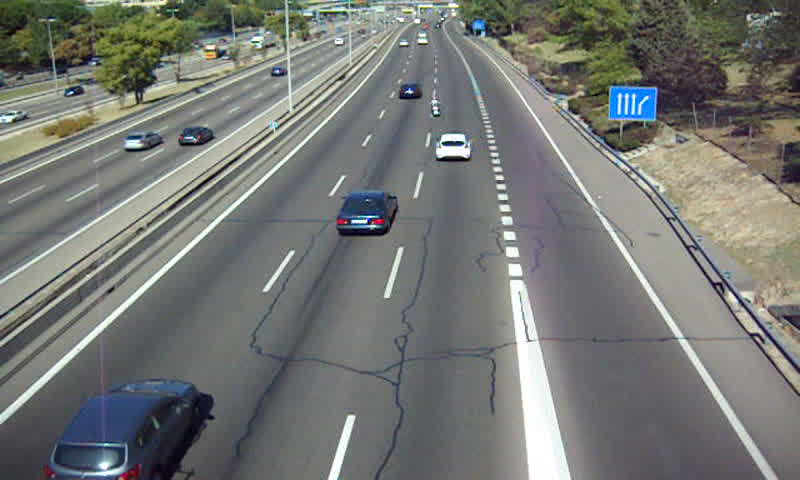car: (46, 378, 199, 480), (334, 191, 398, 236), (436, 133, 472, 161), (396, 83, 423, 100)
motorcycle: (428, 98, 442, 120)
